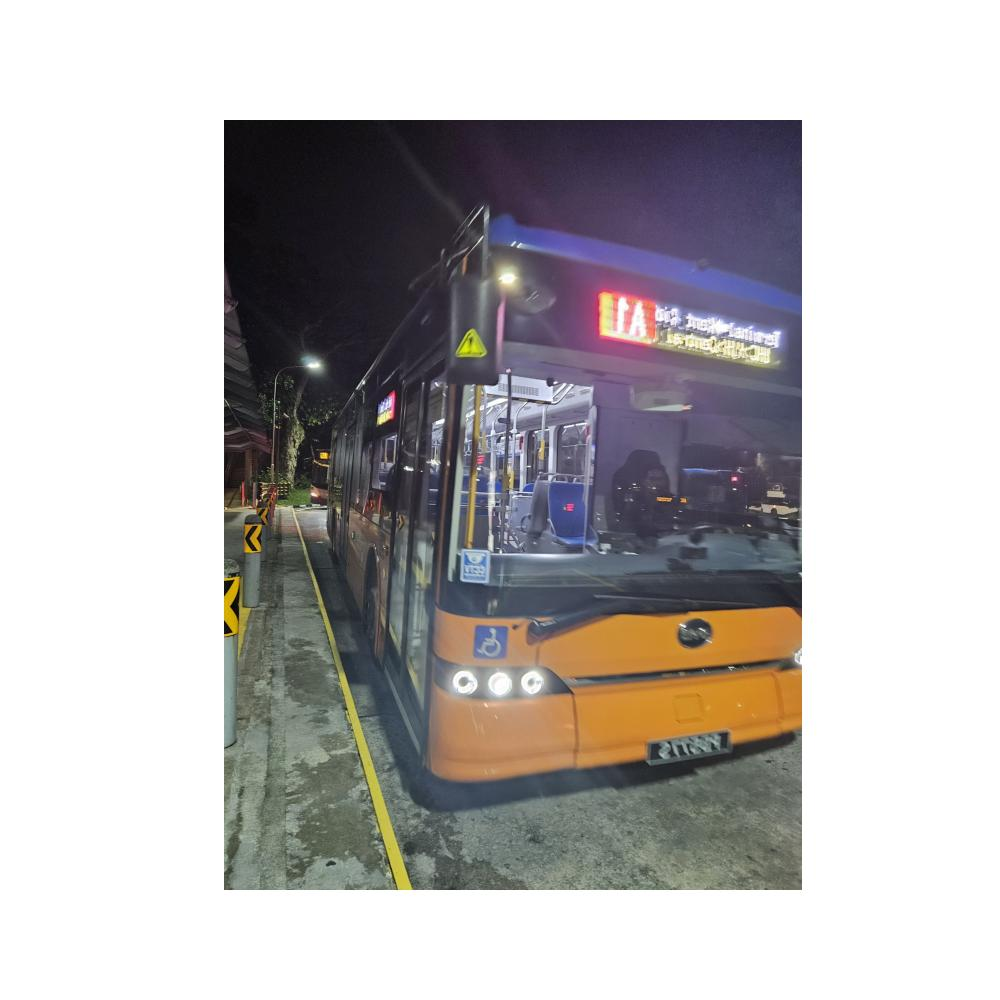bus: (320, 193, 801, 790)
